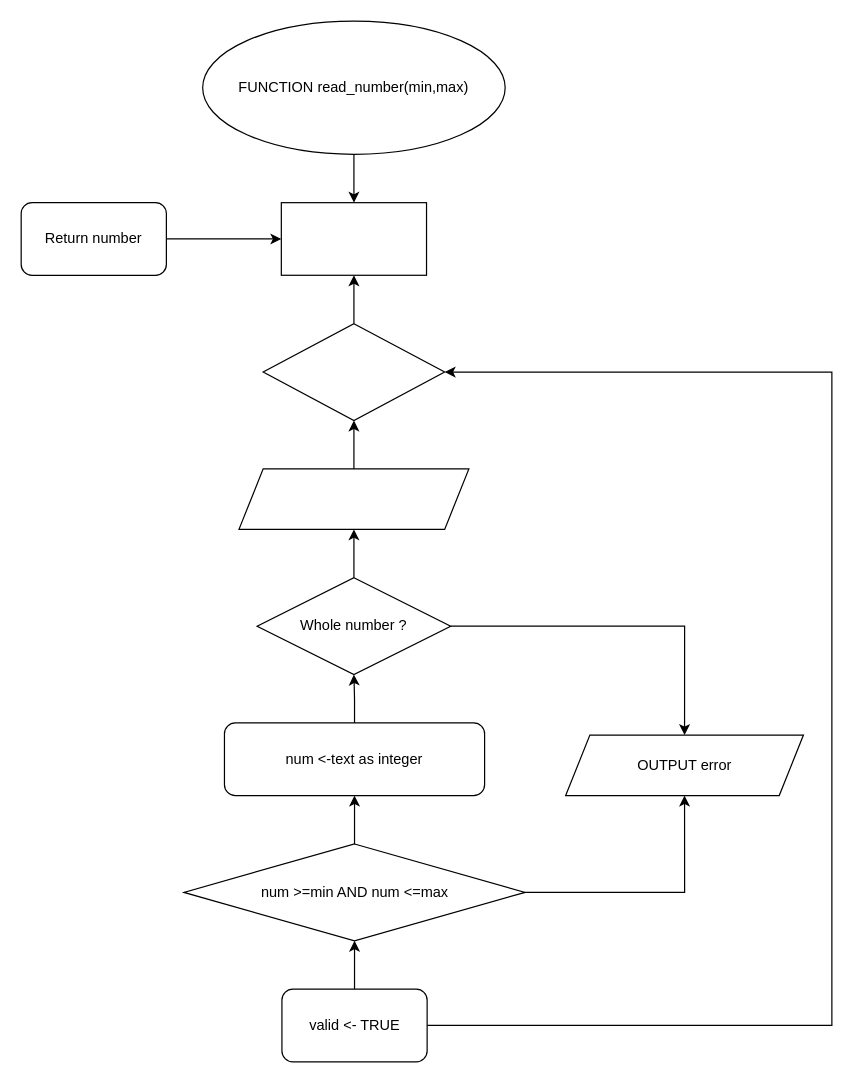
This 863x1083 diagram has some shape labels left out. Here are the shapes that lost their labels. From the top down, the centre of each, then its label:
At [353,238]: "vaild <- FALSE".
At [353,371]: "Not valid ?".
At [353,498]: "INPUT text".
